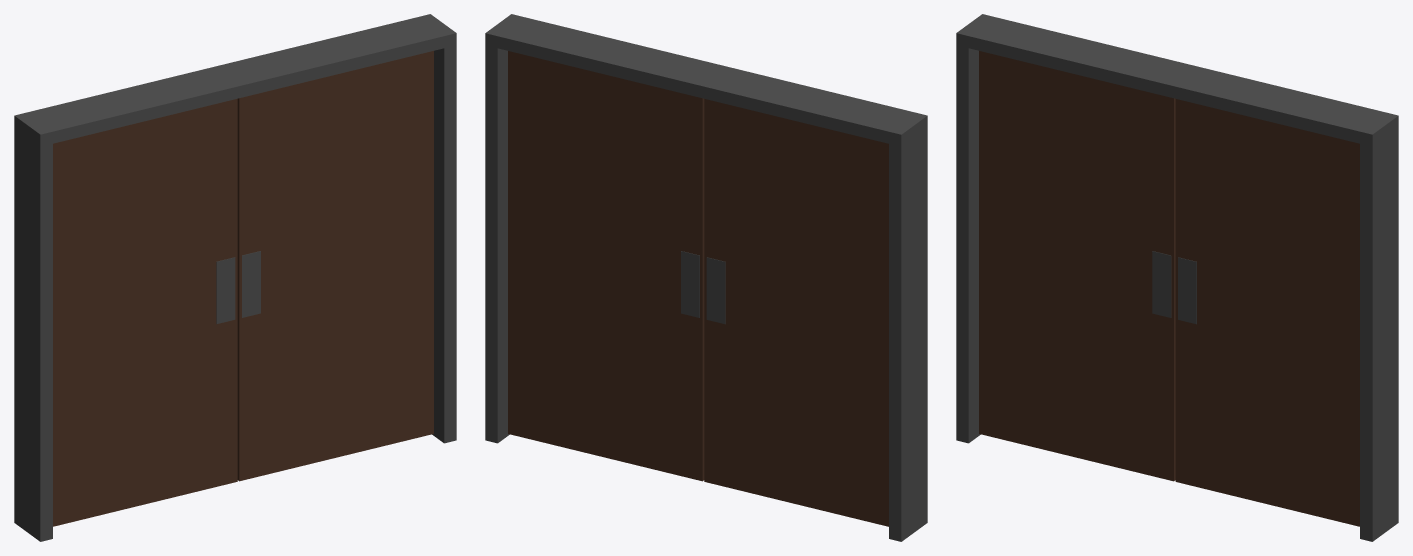
File: Puerta sin animar.fbx
3 views of the same model, side by side, from view 1: azimuth 30°, elevation 25°; view 2: azimuth 150°, elevation 25°; view 3: azimuth 330°, elevation 25° (orthographic).
Parts seen in each view (by area): view 1: polySurface1, polySurface5, pasted__pCube13; view 2: polySurface1, polySurface5, pasted__pCube13; view 3: polySurface5, polySurface1, pasted__pCube13.
Boxes of the visible parts, box(x1,y1,x2,y2) form: polySurface1: box(237, 51, 433, 481); polySurface5: box(53, 98, 237, 526); pasted__pCube13: box(14, 14, 456, 541); polySurface1: box(508, 51, 704, 481); polySurface5: box(704, 99, 888, 526); pasted__pCube13: box(485, 14, 927, 541); polySurface5: box(979, 51, 1175, 481); polySurface1: box(1175, 99, 1359, 526); pasted__pCube13: box(956, 14, 1398, 541).
Bounding box in the file's own units: 0.7116 × 0.6654 × 0.0776.
